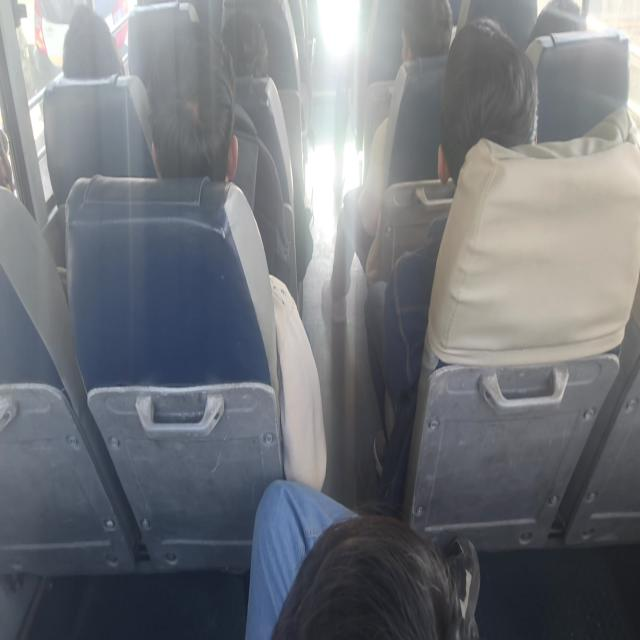person: (266, 482, 476, 640), (143, 52, 234, 199), (53, 12, 119, 81), (0, 68, 27, 198)
